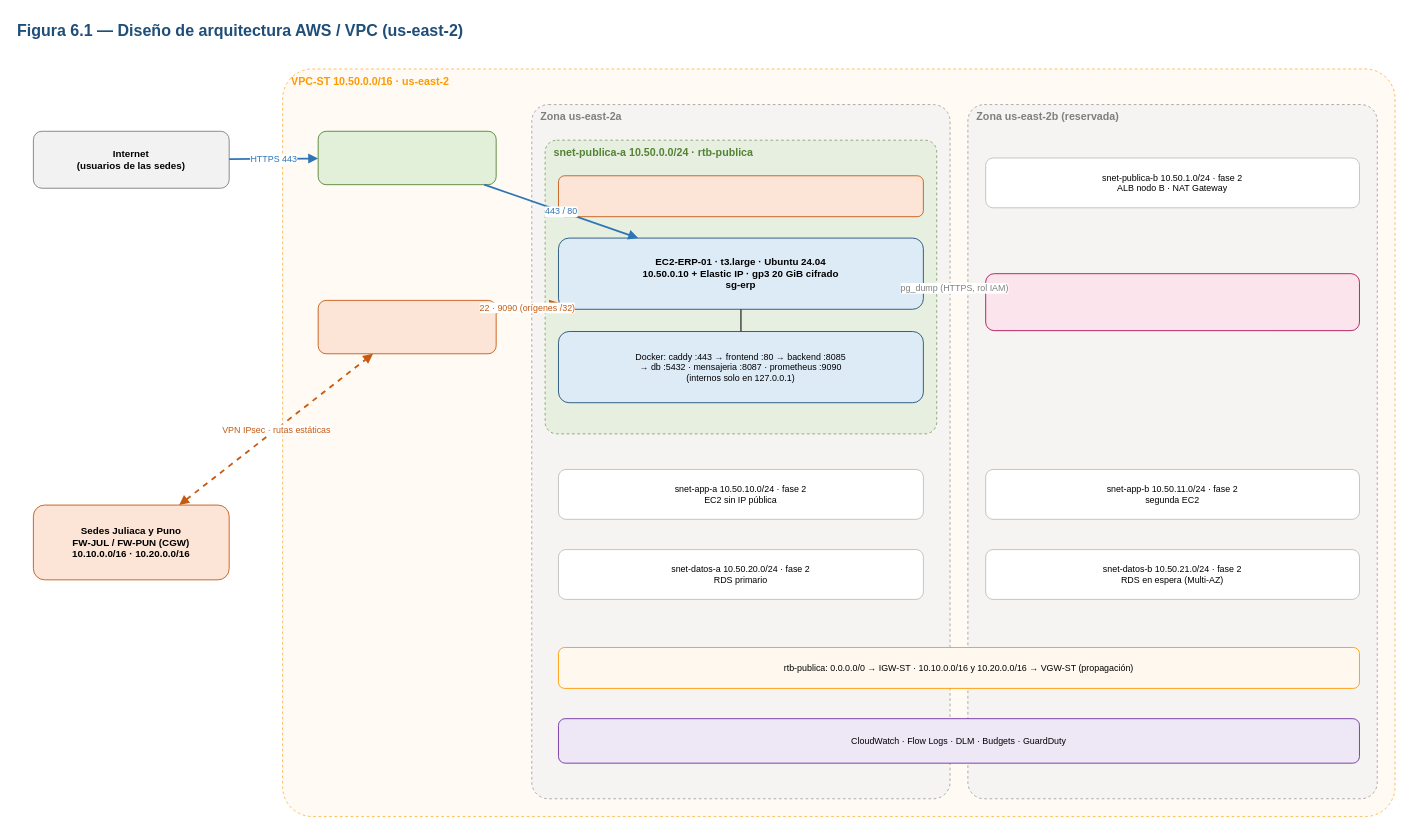
Image size: 1411x832. Some labels were removed from this diagram. Here are the shapes that lost their labels. From the top down, the centre of each, then its label:
At point (406, 157): "IGW-ST Internet Gateway".
At point (740, 196): "NACL: 80/443 desde 0.0.0.0/0; 22 y 9090 solo orígenes autorizados".
At point (1172, 302): "S3 st-erp-respaldos (SSE-S3, versionado, 35 días) rol IAM ec2-erp-respaldos".
At point (406, 326): "VGW-ST Virtual Private Gateway".
